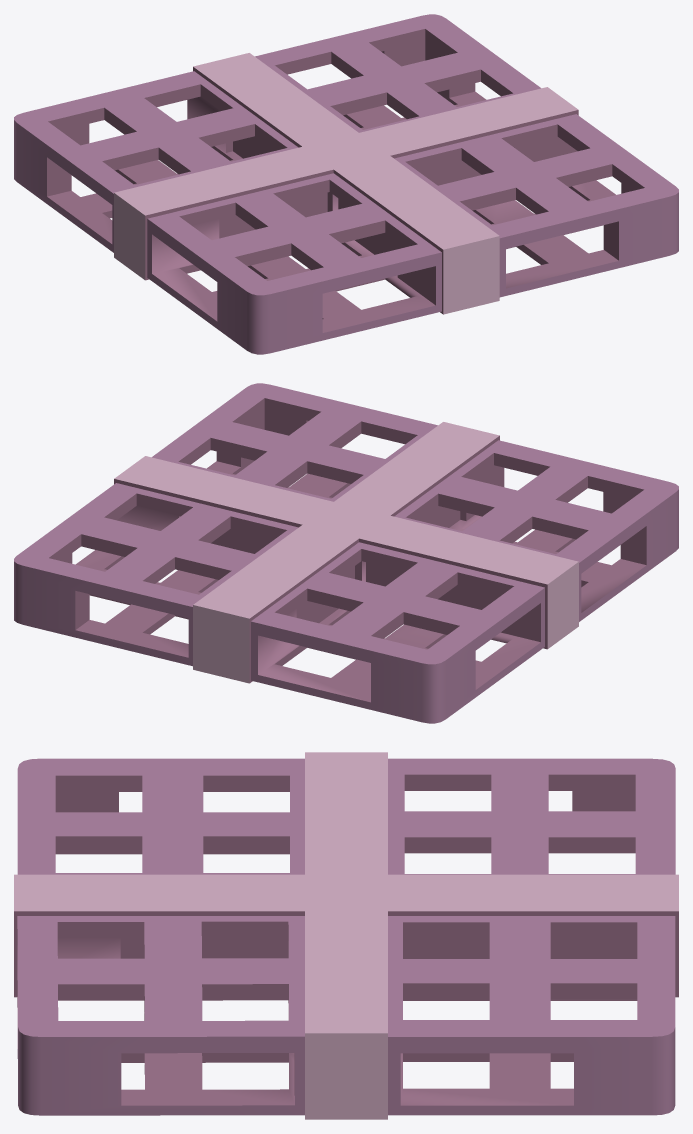
File: Purple_Plastic_Pallet.fbx
3 renders of one model, top to bottom at view 1: azimuth 30°, elevation 25°; view 2: azimuth 150°, elevation 25°; view 3: azimuth 270°, elevation 25°, orthographic. The views are drawn at different scales.
Visible parts, largest first — view 1: Purple_Plastic_Pallet; view 2: Purple_Plastic_Pallet; view 3: Purple_Plastic_Pallet.
Part boxes in pixels (x1,y1,x2,y2): Purple_Plastic_Pallet: (14, 14, 678, 354); Purple_Plastic_Pallet: (14, 383, 678, 723); Purple_Plastic_Pallet: (14, 752, 678, 1119).
Bounding box in the file's own units: 115 × 16.44 × 115.
